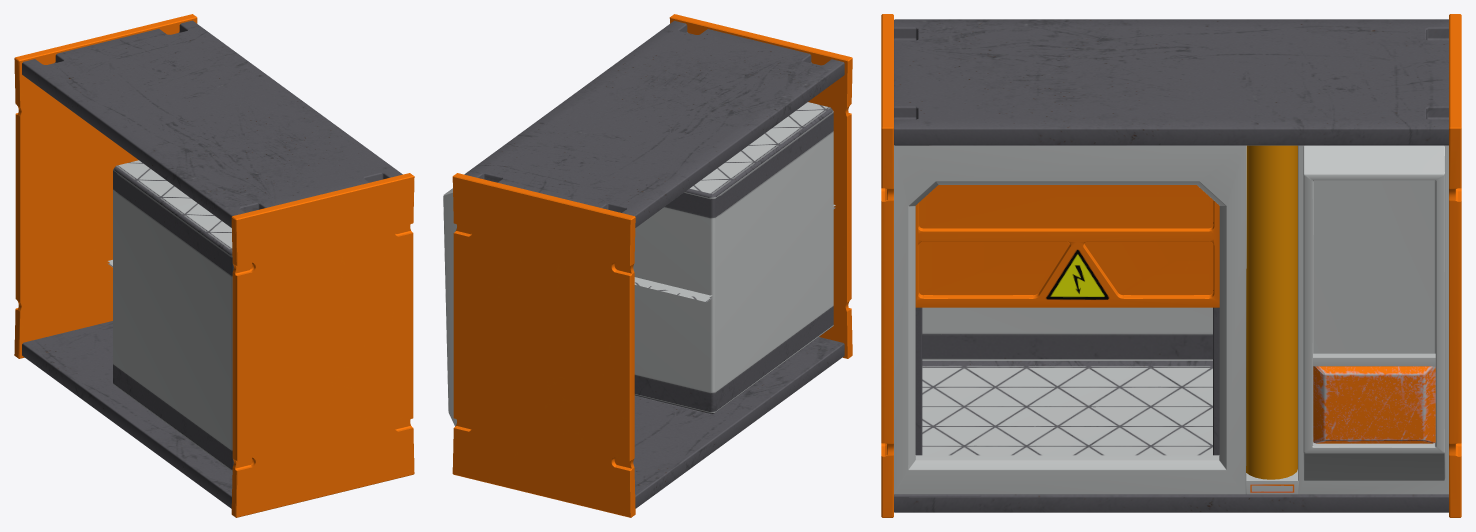
Rendered from ChargeStation.fbx.
3 views of the same model, side by side, from view 1: azimuth 30°, elevation 25°; view 2: azimuth 150°, elevation 25°; view 3: azimuth 270°, elevation 25° (orthographic). The views are drawn at different scales.
Visible parts, largest first — view 1: polySurface7, ChargeStation:group1polySurface3, ChargeStation:group1pCube12, polySurface8, group1polySurface3; view 2: polySurface8, ChargeStation:group1pCube12, ChargeStation:group1polySurface3, group1polySurface3, polySurface7, ChargeStation:group1pCube9, ChargeStation:group1pCube15; view 3: ChargeStation:group1polySurface3, ChargeStation:group1pCube12, ChargeStation:group1pCube7, ChargeStation:group1pCube9, ChargeStation:group1polySurface1, pCylinder1, group1polySurface3, ChargeStation:group1pPlane1, polySurface7, polySurface8, ChargeStation:group1pCube17, group1pCube24 (+2 smaller).
Part boxes in pixels (<box>): polySurface7: <box>231,173,414,517</box>; ChargeStation:group1polySurface3: <box>22,20,402,227</box>; ChargeStation:group1pCube12: <box>113,160,233,471</box>; polySurface8: <box>14,14,197,358</box>; group1polySurface3: <box>22,321,232,508</box>; polySurface8: <box>452,173,635,517</box>; ChargeStation:group1pCube12: <box>633,102,833,414</box>; ChargeStation:group1polySurface3: <box>464,20,844,227</box>; group1polySurface3: <box>633,337,844,508</box>; polySurface7: <box>669,14,852,358</box>; ChargeStation:group1pCube9: <box>443,188,456,426</box>; ChargeStation:group1pCube15: <box>634,204,835,302</box>; ChargeStation:group1polySurface3: <box>894,19,1448,145</box>; ChargeStation:group1pCube12: <box>922,307,1212,455</box>; ChargeStation:group1pCube7: <box>894,145,1246,494</box>; ChargeStation:group1pCube9: <box>1298,145,1448,494</box>; ChargeStation:group1polySurface1: <box>915,185,1219,307</box>; pCylinder1: <box>1246,145,1297,479</box>; group1polySurface3: <box>894,494,1448,512</box>; ChargeStation:group1pPlane1: <box>1313,366,1435,443</box>; polySurface7: <box>881,14,893,517</box>; polySurface8: <box>1449,14,1461,517</box>; ChargeStation:group1pCube17: <box>1313,353,1435,366</box>; group1pCube24: <box>915,307,922,455</box>.
Size of the model in its own units: 93.64 by 137 by 185.
